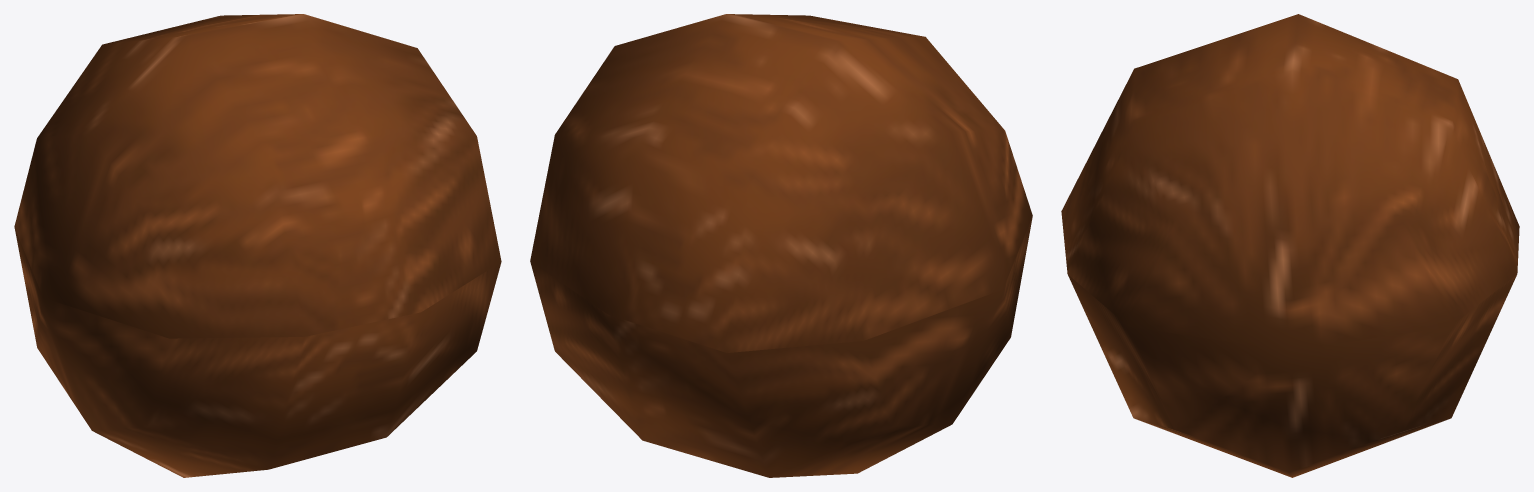
File: SM_PROP_food_coconut_01.FBX
3 views of the same model, side by side, from view 1: azimuth 30°, elevation 25°; view 2: azimuth 150°, elevation 25°; view 3: azimuth 270°, elevation 25° (orthographic). The views are drawn at different scales.
Parts seen in each view (by area): view 1: SM_PROP_food_coconut_01; view 2: SM_PROP_food_coconut_01; view 3: SM_PROP_food_coconut_01.
Part boxes in pixels (left/top/right/bottom): SM_PROP_food_coconut_01: left=14, top=14, right=501, bottom=477; SM_PROP_food_coconut_01: left=530, top=14, right=1032, bottom=477; SM_PROP_food_coconut_01: left=1061, top=14, right=1519, bottom=477.
Size of the model in its own units: 21.59 by 20.65 by 20.64.
